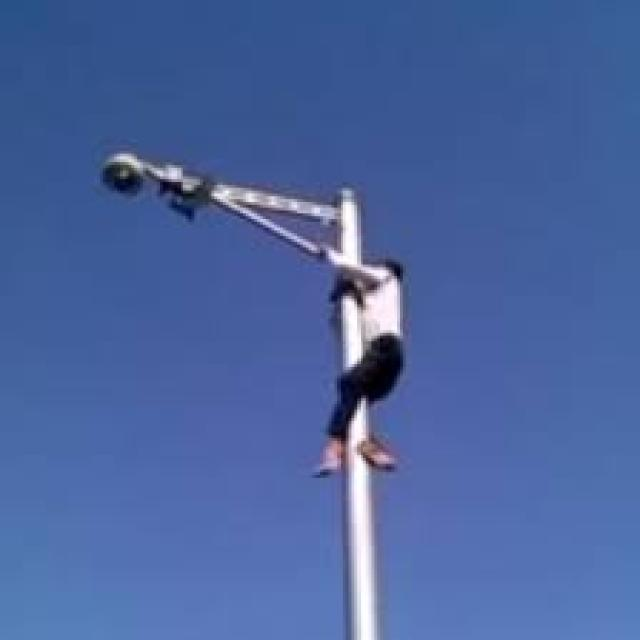Street Light: (97, 148, 380, 640)
